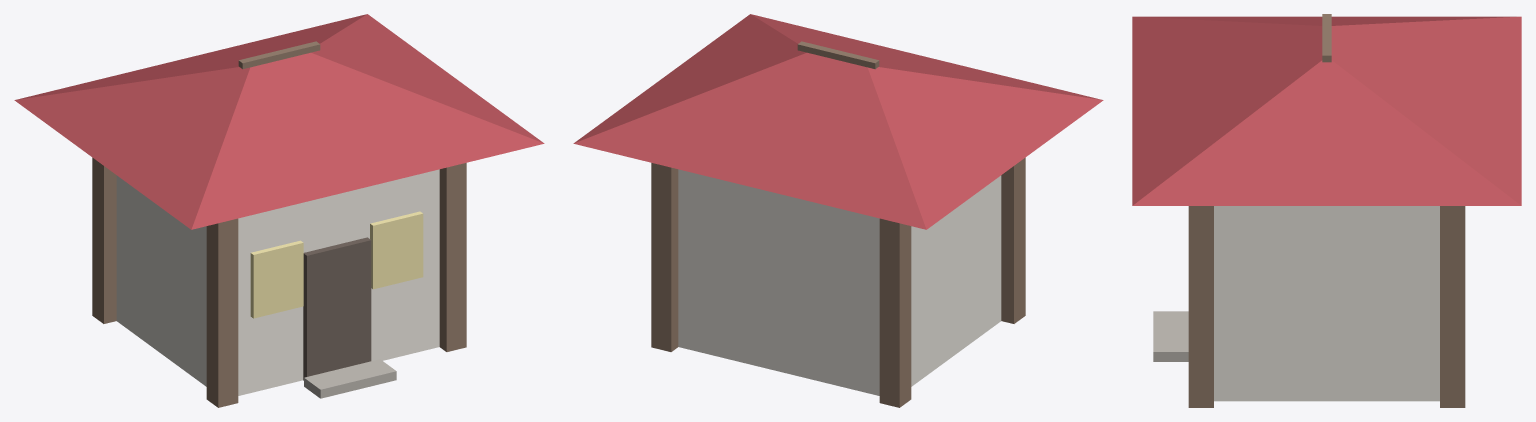
The model's file is residential_b.glb.
3 views of the same model, side by side, from view 1: azimuth 30°, elevation 25°; view 2: azimuth 150°, elevation 25°; view 3: azimuth 270°, elevation 25° (orthographic). The views are drawn at different scales.
Bounding box in the file's own units: 4.94 × 3.73 × 4.29.
